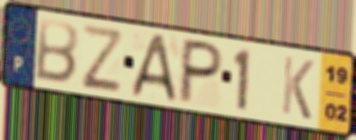1: (231, 46, 253, 113)
A: (128, 32, 180, 104)
B: (32, 16, 81, 86)
K: (279, 53, 316, 123)
P: (175, 36, 227, 106)
Z: (80, 22, 124, 93)
